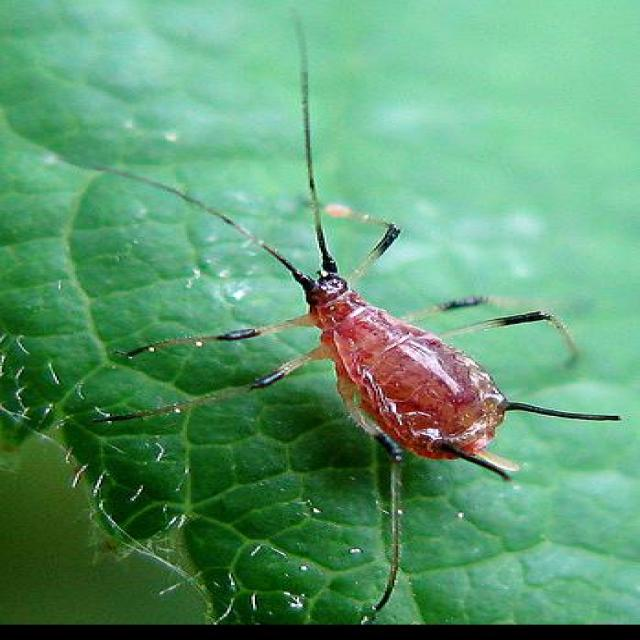Aphids: (105, 134, 612, 589)
